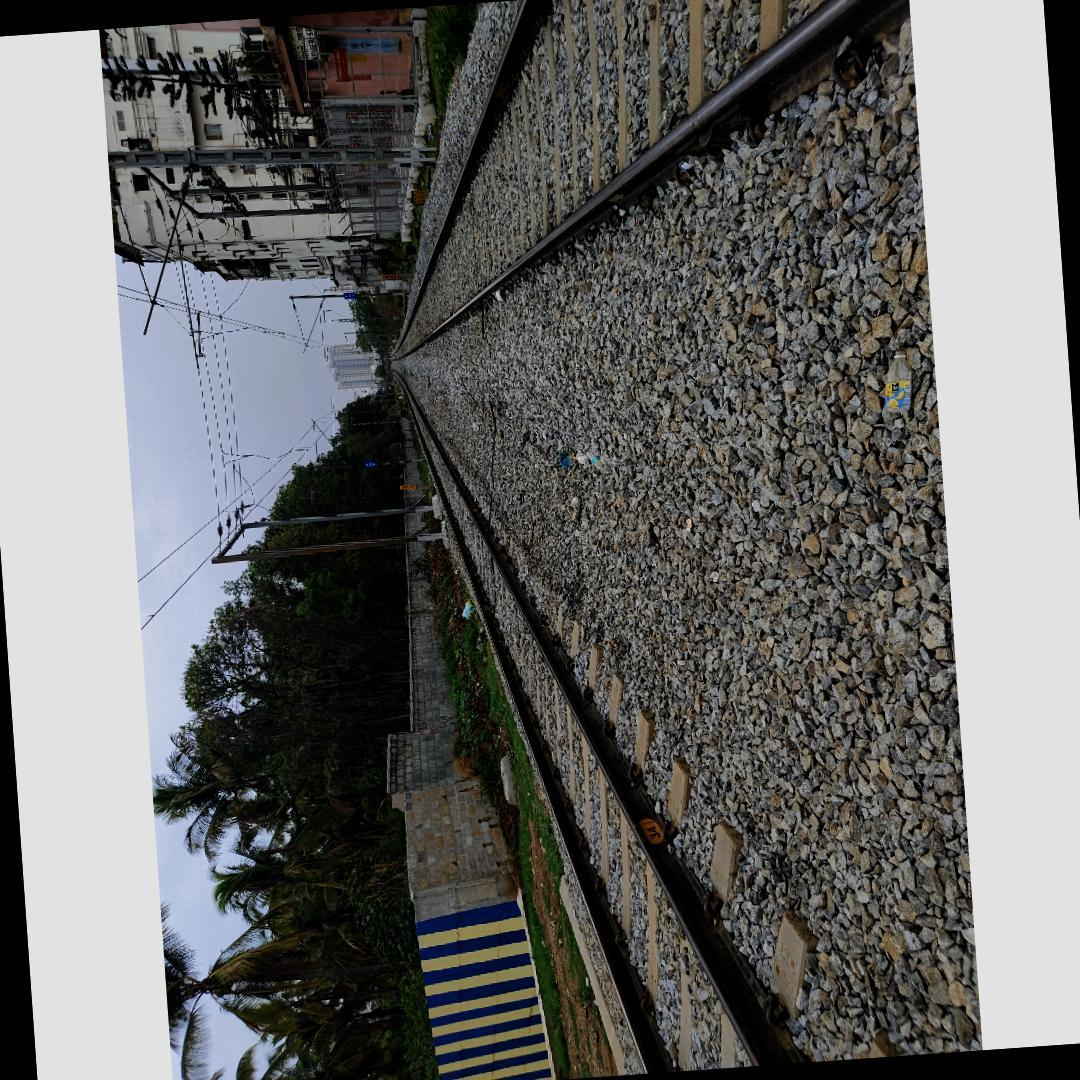track: (387, 0, 911, 368)
